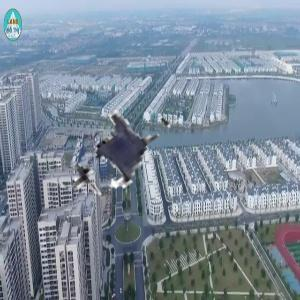drone: (39, 55, 200, 216)
